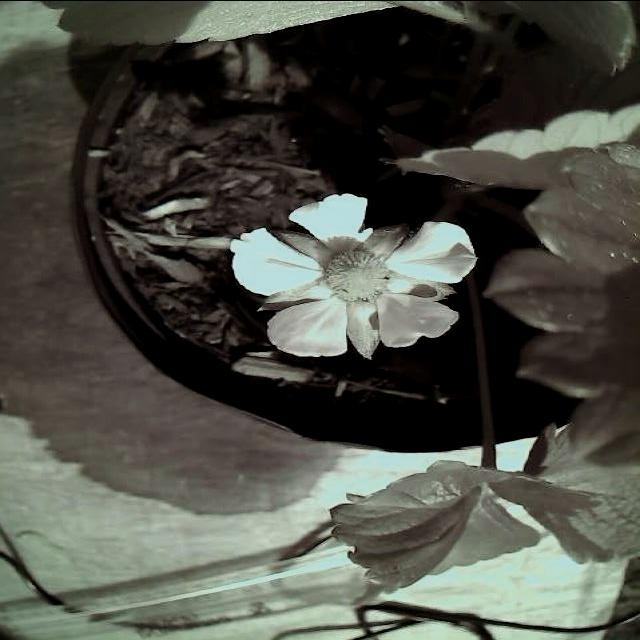flower: (225, 185, 490, 369)
